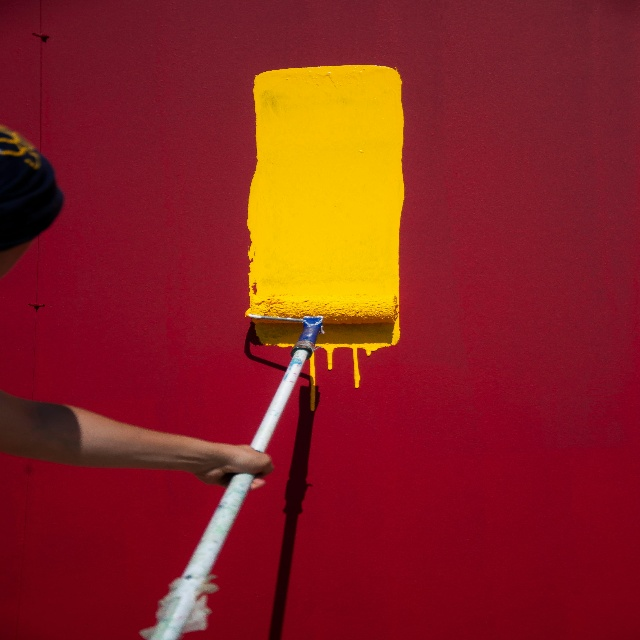Sin_guantes: (198, 442, 272, 490)
